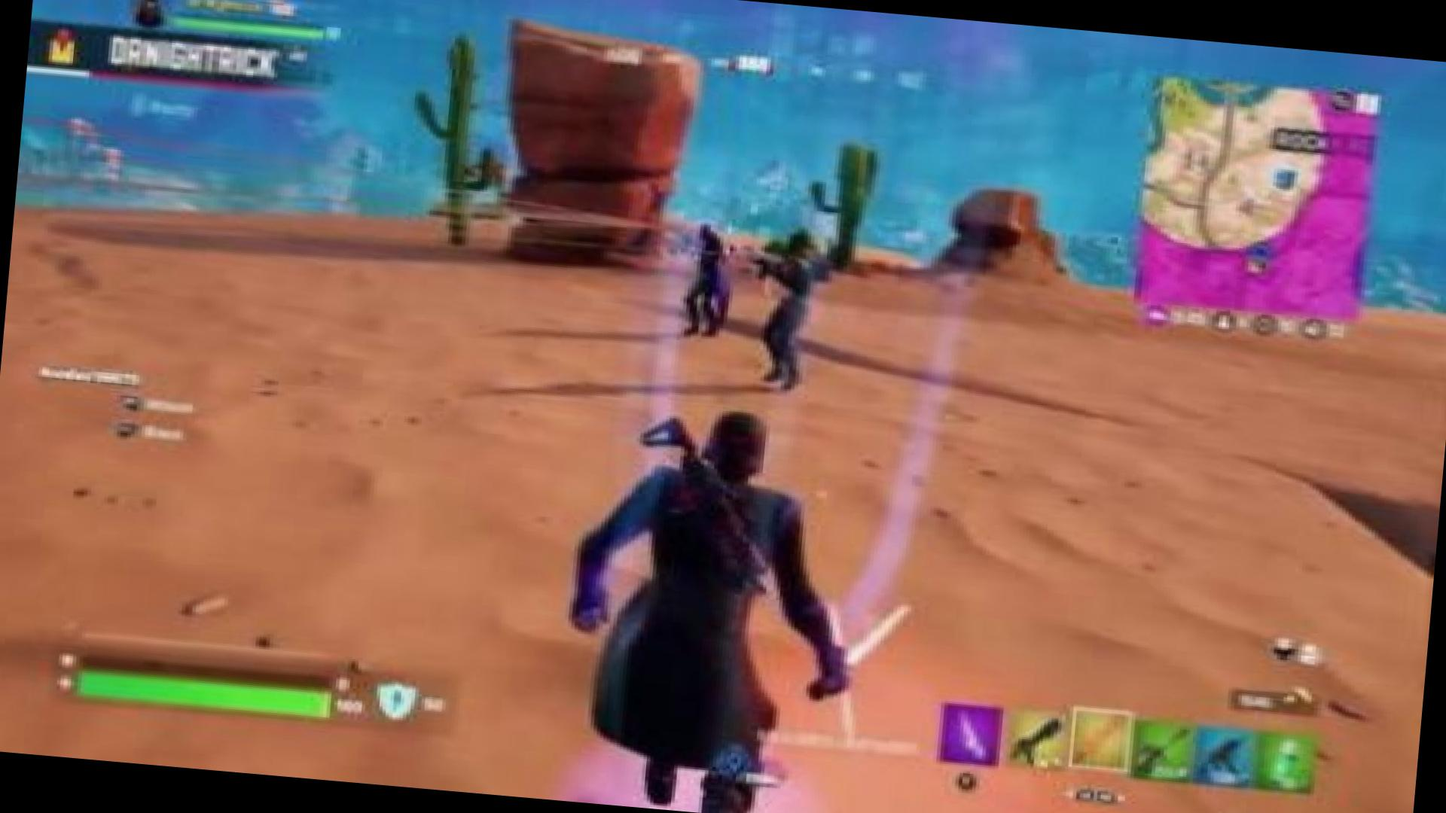player: (745, 225, 833, 395), (679, 222, 737, 339)
